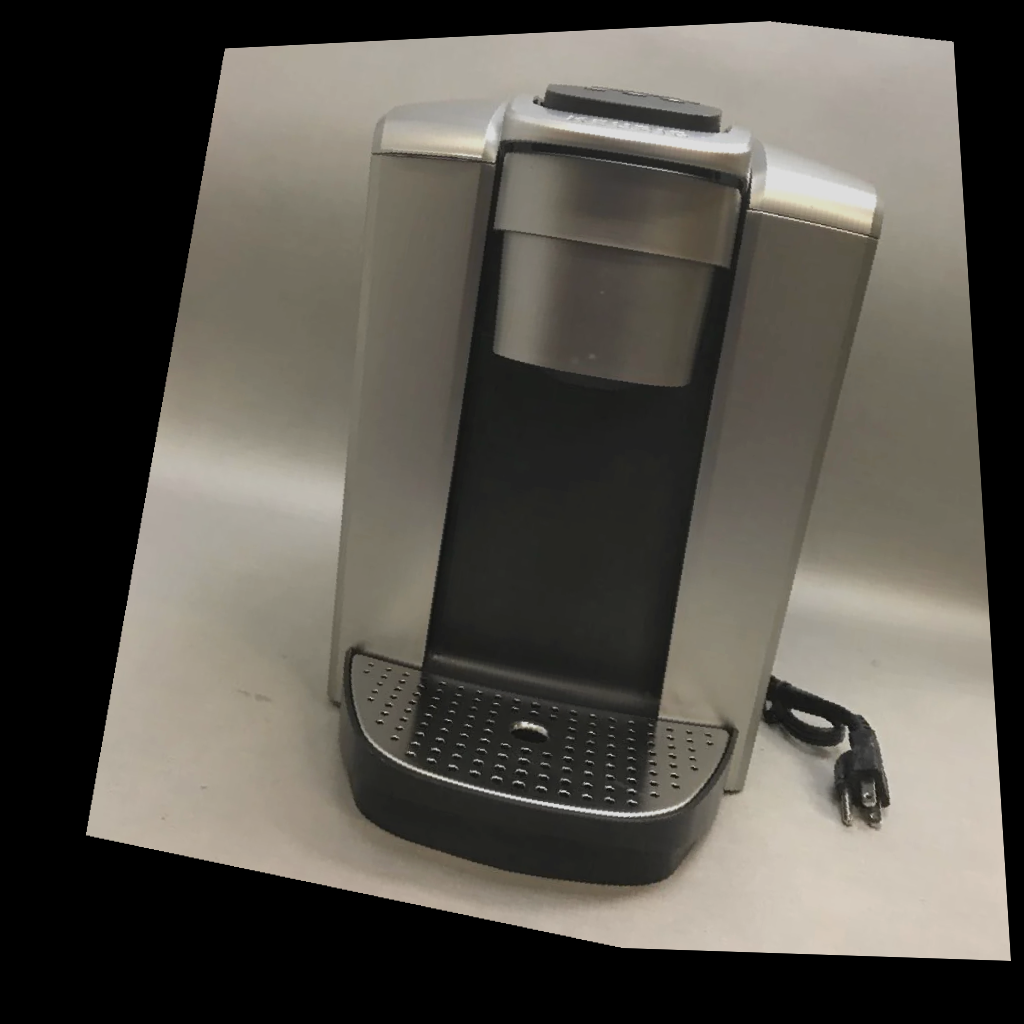platform: (507, 714, 554, 747)
